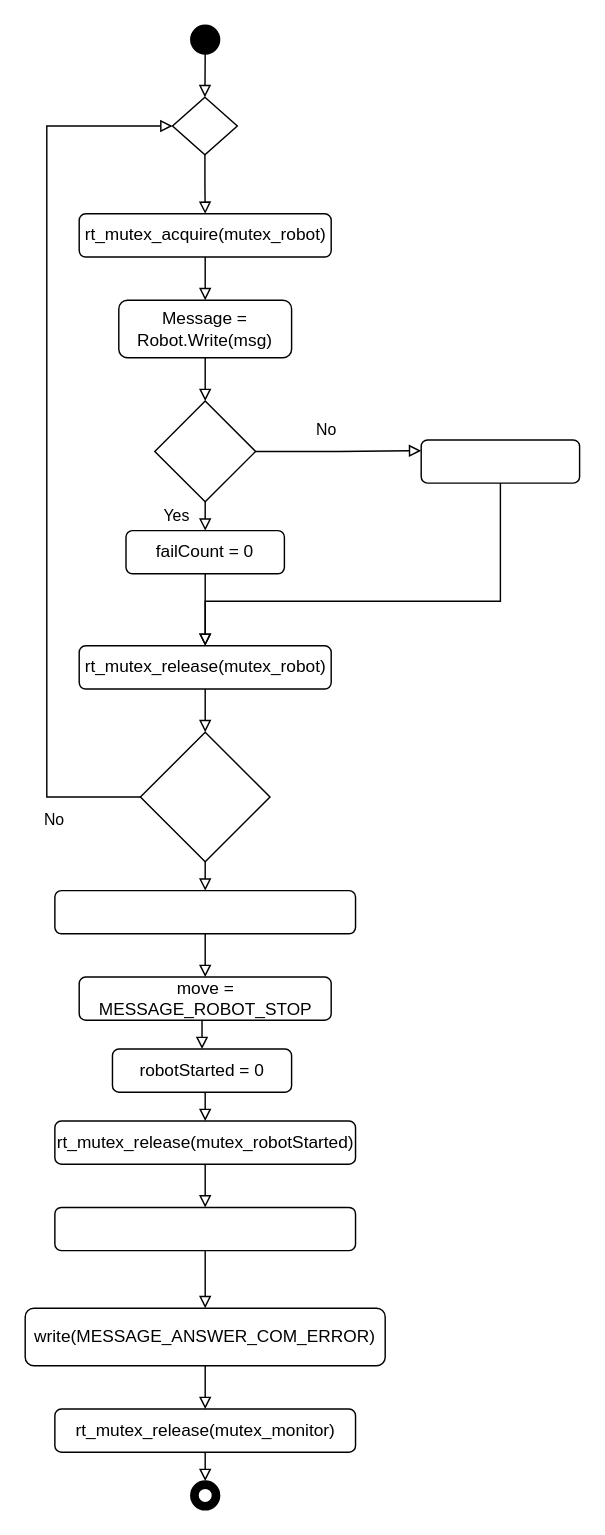
The diagram is 605 pixels wide and 1535 high, and some of its shapes have lost their labels. The centre of each missing label's shape, as x and y in pixels:
failCount == 3: the point at 204,796
failCount++: the point at 500,460
message = compareID(ACK): the point at 204,451
rt_mutex_acquire(mutex_monitor): the point at 204,1228
rt_mutex_acquire(mutex_robotStarted): the point at 204,911
